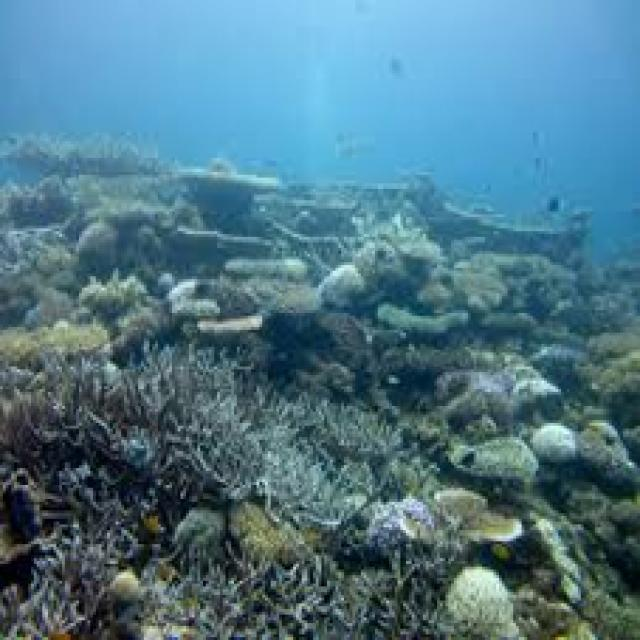Dead Coral: (0, 335, 262, 499), (231, 386, 413, 540), (186, 552, 451, 640), (0, 519, 149, 640)
